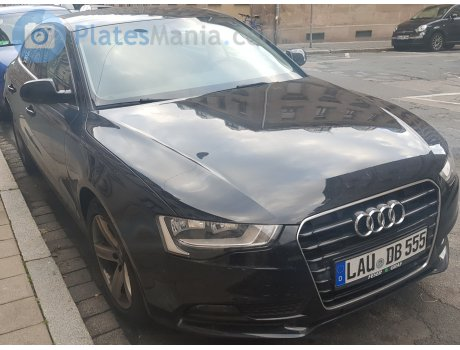License Plates: (348, 236, 420, 275)
